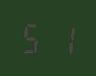five: (19, 18, 46, 55)
one: (47, 19, 74, 57)
